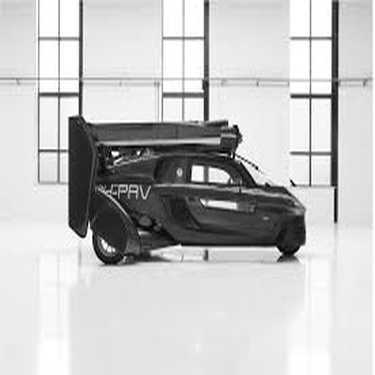car: (60, 113, 312, 268)
